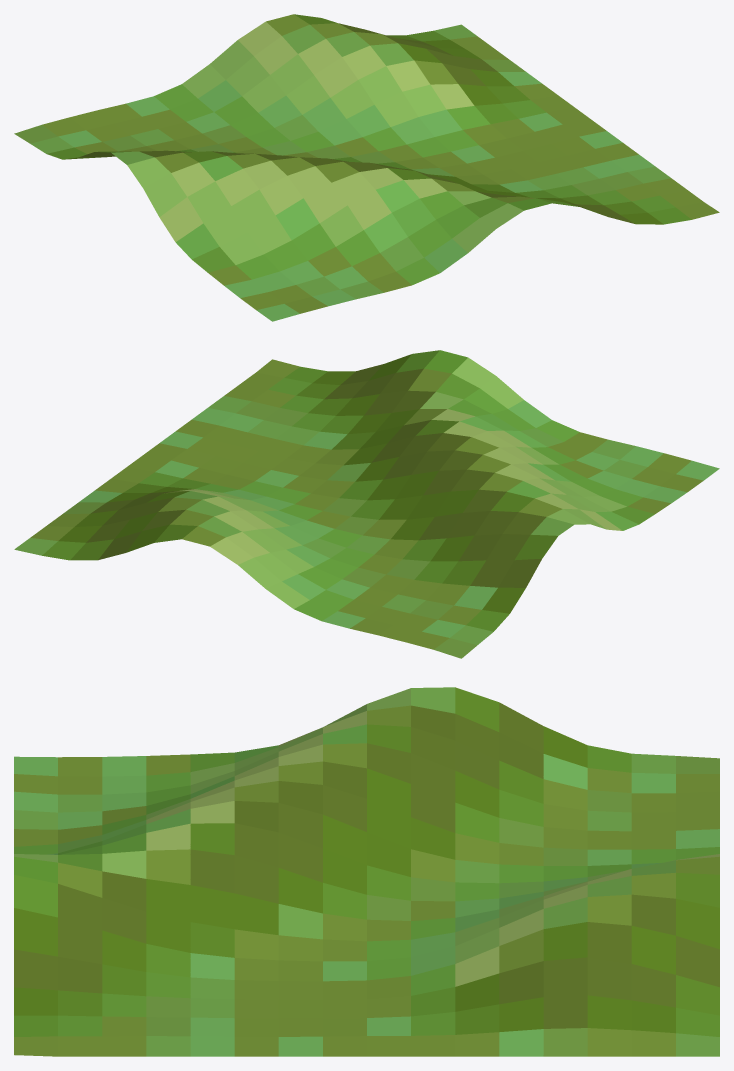
Rendered from hills13.obj.
The picture shows the model from 3 angles, top to bottom: view 1: azimuth 30°, elevation 25°; view 2: azimuth 150°, elevation 25°; view 3: azimuth 270°, elevation 25°; orthographic projection. The views are drawn at different scales.
Visible parts, largest first — view 1: hills13; view 2: hills13; view 3: hills13.
Part boxes in pixels (x1,y1,x2,y2): hills13: [14, 14, 719, 321]; hills13: [14, 350, 719, 658]; hills13: [14, 687, 719, 1056].
Bounding box in the file's own units: 1 × 0.1125 × 1.
1 material, 1 textured.
